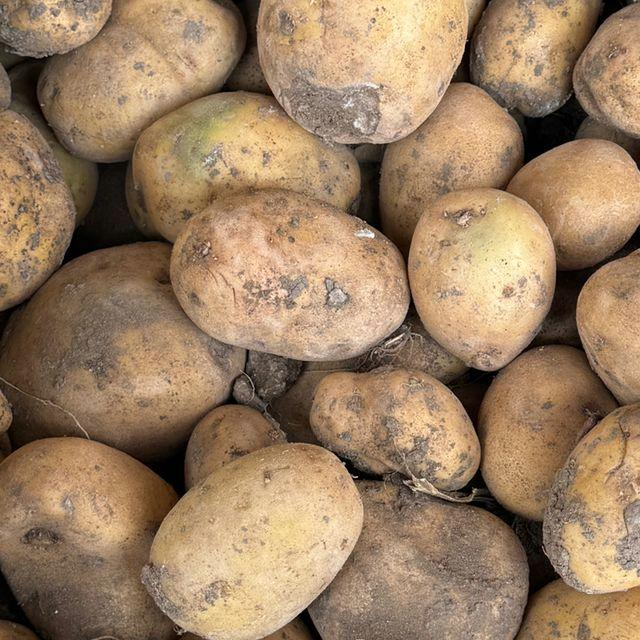potato: (112, 406, 395, 640), (221, 0, 508, 179), (172, 186, 422, 389), (508, 392, 640, 605)
